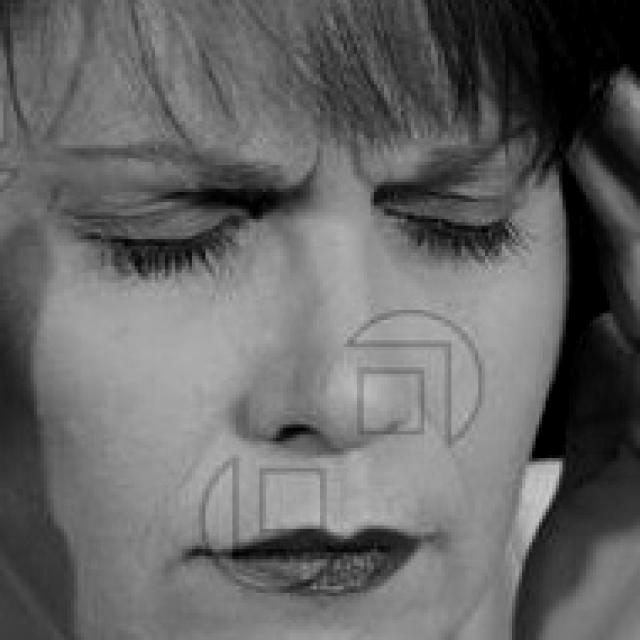real: (24, 28, 552, 616), (90, 162, 504, 296)
